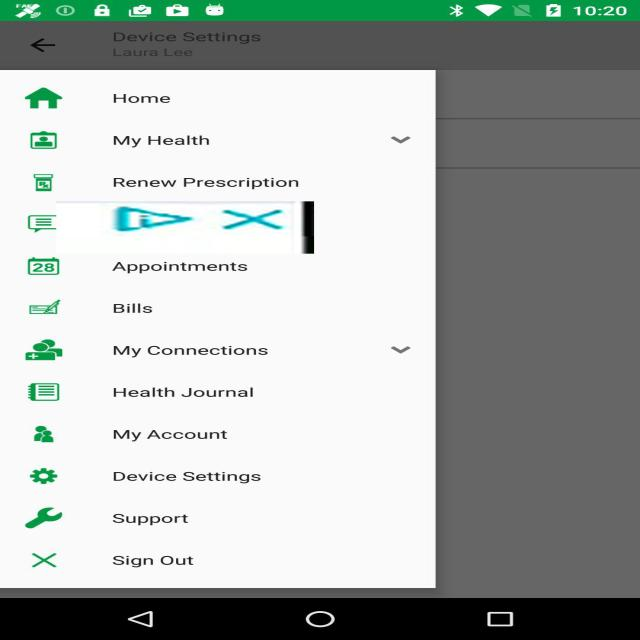sneaking: (56, 201, 314, 254)
